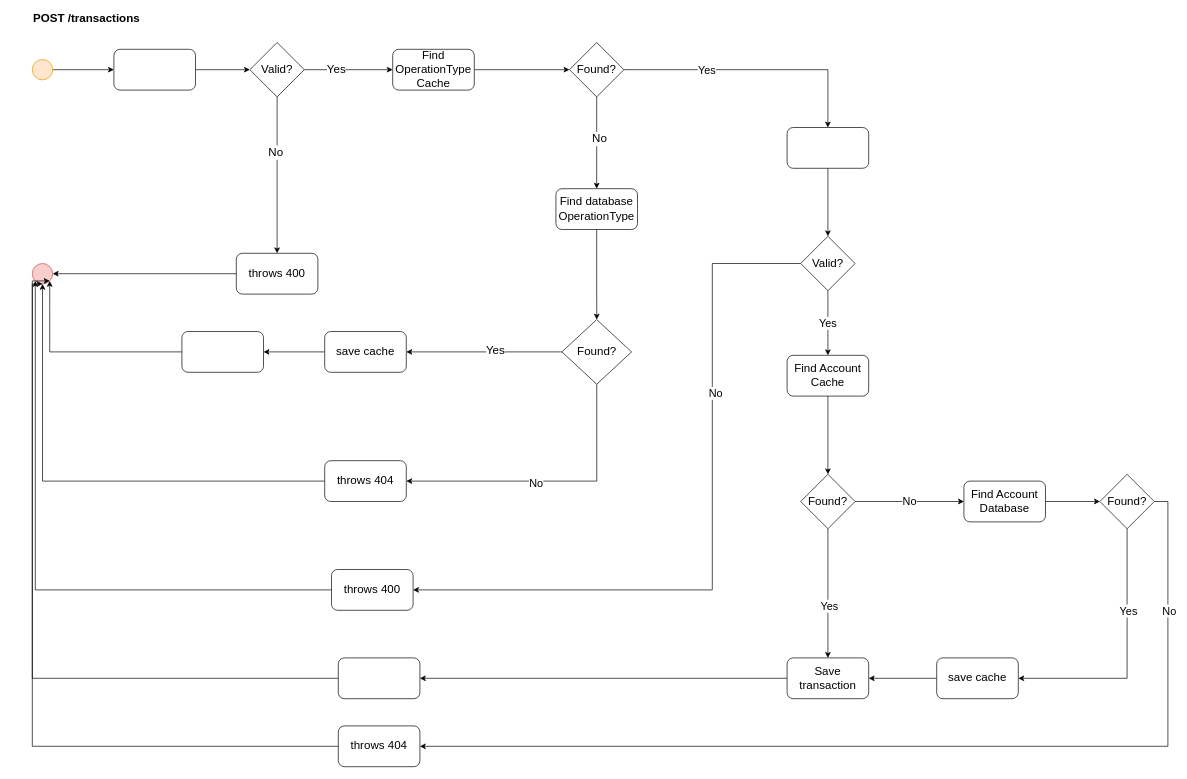
Image size: 1187x779. Some labels were removed from this diagram. The shapes that lost their labels are listed below. From the top down, each one's centre as x and y in pixels, then its label:
At pixel 154 69: "Validate Body".
At pixel 827 147: "Validate OperationType And Amount".
At pixel 222 351: "Return Body with status 200".
At pixel 379 678: "Returns 201".
